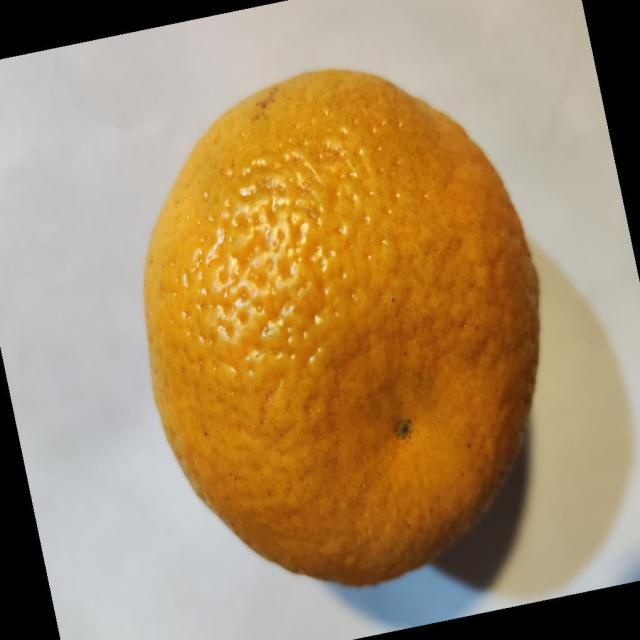agrume: (142, 67, 541, 588)
